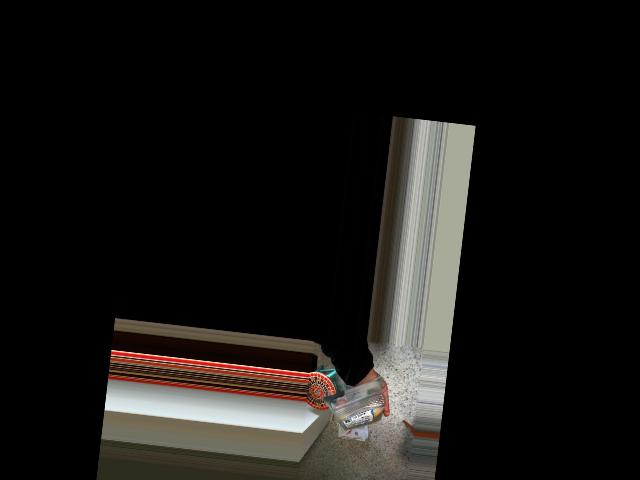cheese: (339, 381, 374, 448)
